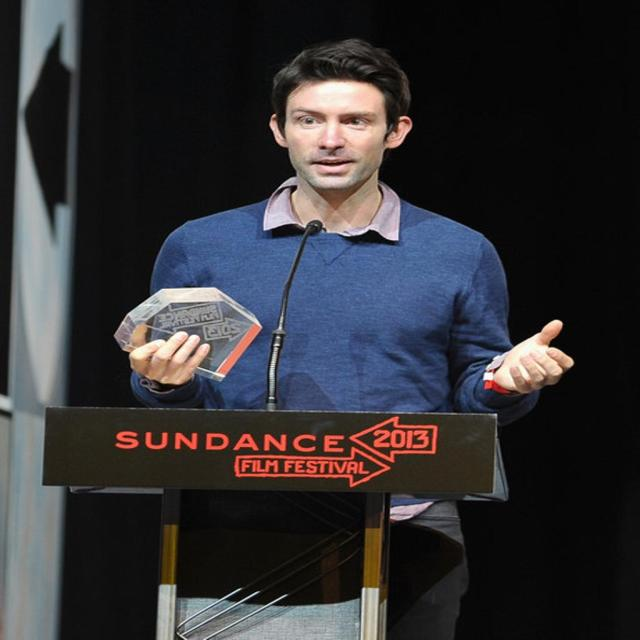Face: (290, 82, 394, 195)
